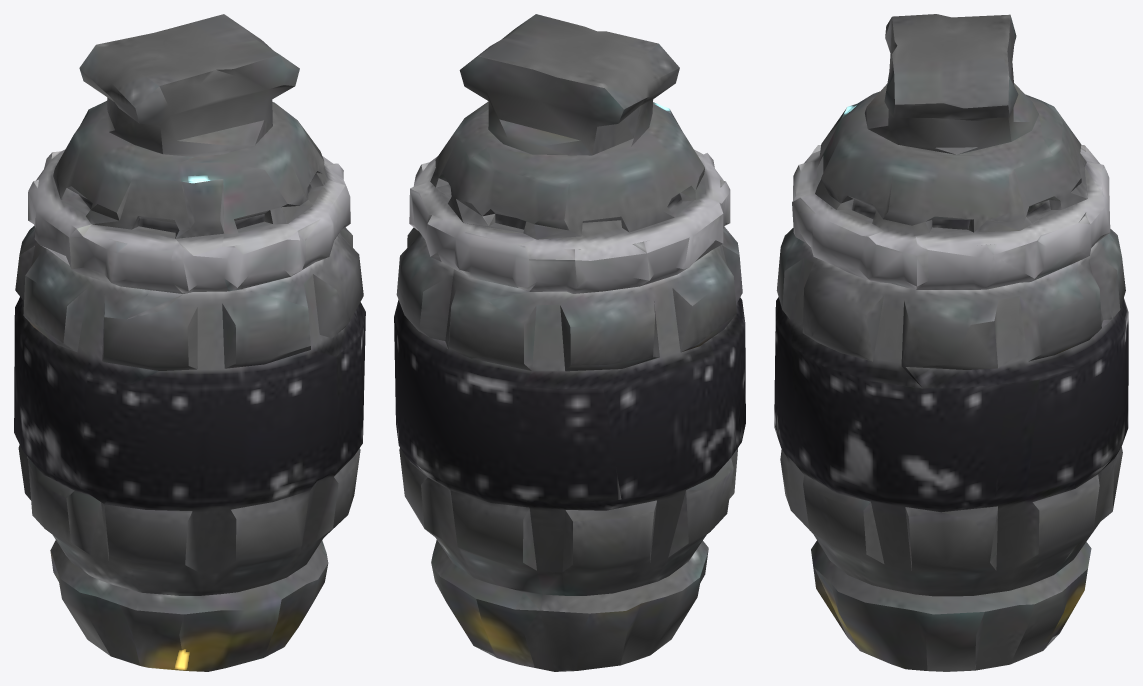
3 renders of one model, left to right at view 1: azimuth 30°, elevation 25°; view 2: azimuth 150°, elevation 25°; view 3: azimuth 270°, elevation 25°, orthographic.
Parts seen in each view (by area): view 1: body; view 2: body; view 3: body.
Part boxes in pixels (x1,y1,x2,y2): body: (14,14,365,671); body: (394,14,745,671); body: (774,14,1128,671).
Bounding box in the file's own units: 0.1197 × 0.22 × 0.1201.
Materials: 1 (1 with a texture image).
